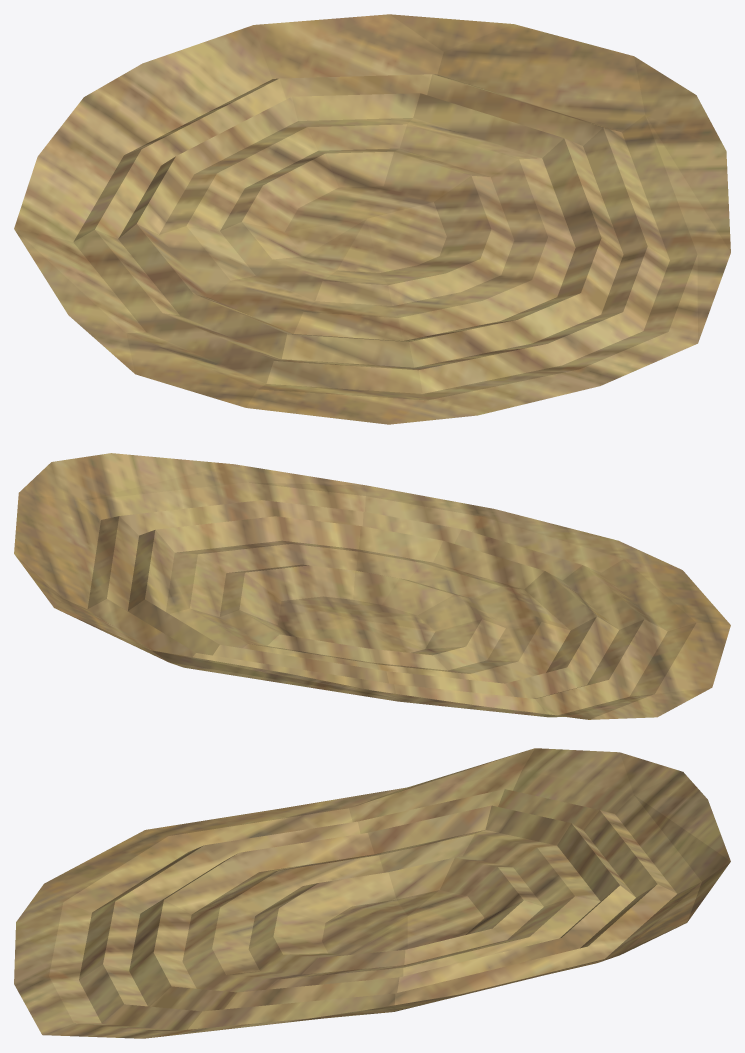
The model's file is ForestWoodCover.dae.
3 views of the same model, one above another, from view 1: azimuth 30°, elevation 25°; view 2: azimuth 150°, elevation 25°; view 3: azimuth 270°, elevation 25° (orthographic). The views are drawn at different scales.
Parts seen in each view (by area): view 1: m0; view 2: m0; view 3: m0.
Part boxes in pixels (box(x1,y1,x2,y2)): m0: box(14, 14, 730, 424); m0: box(14, 453, 730, 719); m0: box(14, 748, 730, 1038).
Size of the model in its own units: 316 by 56.73 by 307.
1 material, 1 textured.
